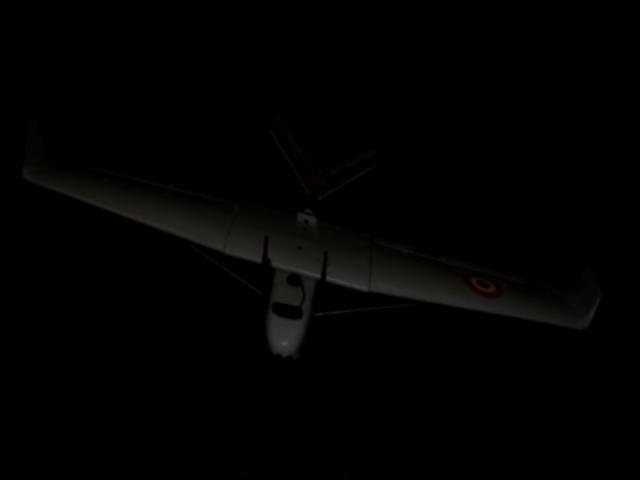iha: (3, 41, 640, 443)
